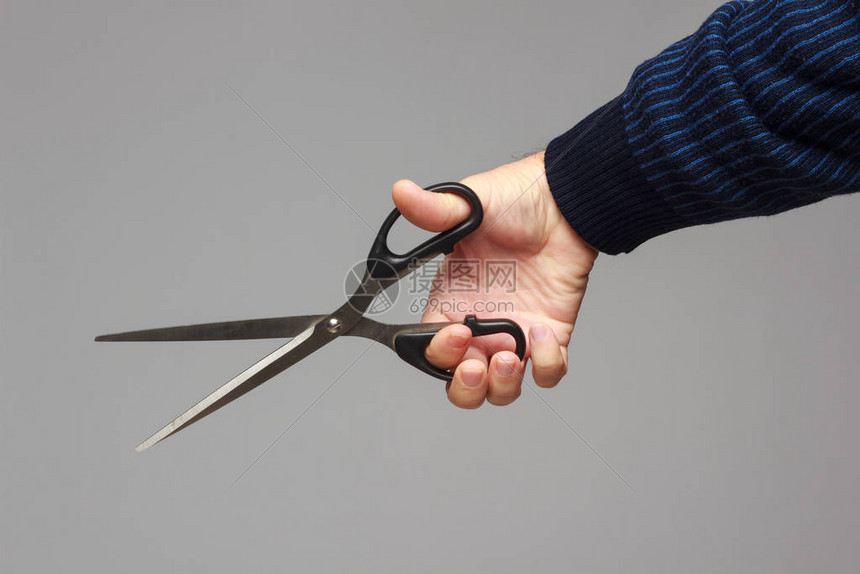scissors: (72, 180, 531, 463)
